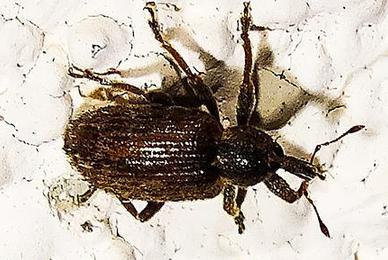weevils: (21, 0, 381, 260)
